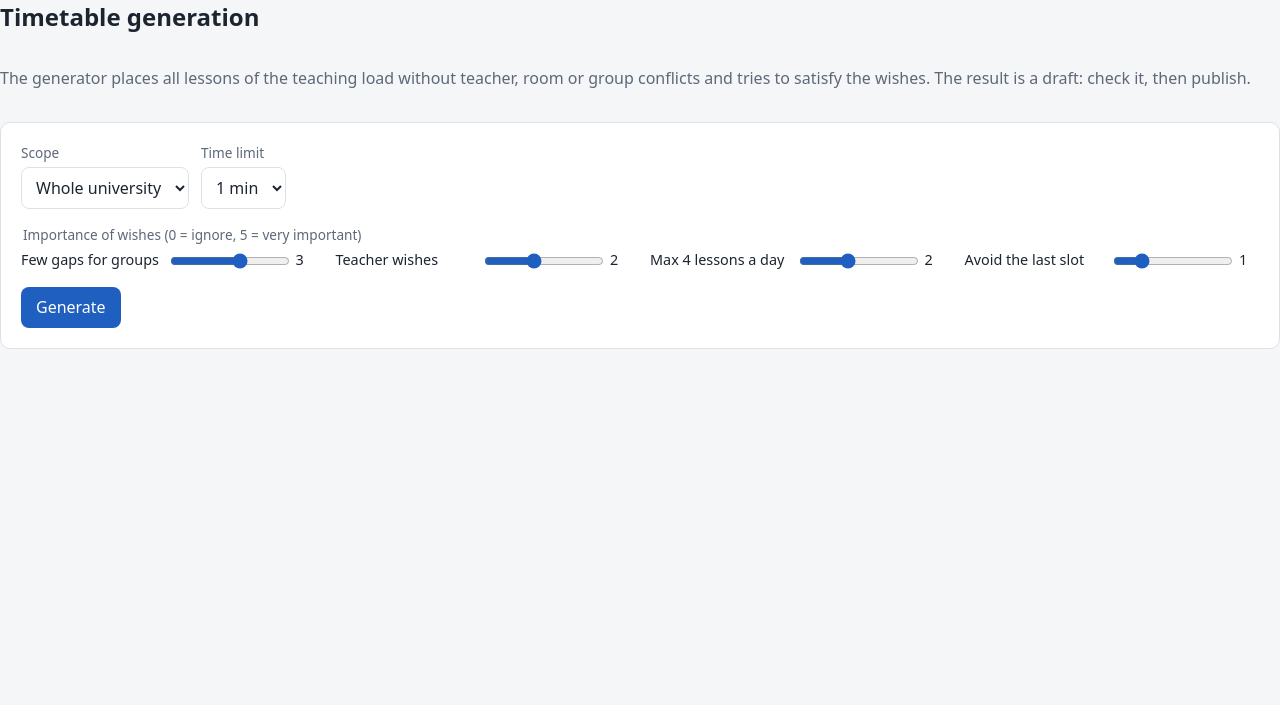
Test: GenerationPage › explains the result in plain language
Click the button "Generate".
click(71, 308)  # box [21,287,121,328]
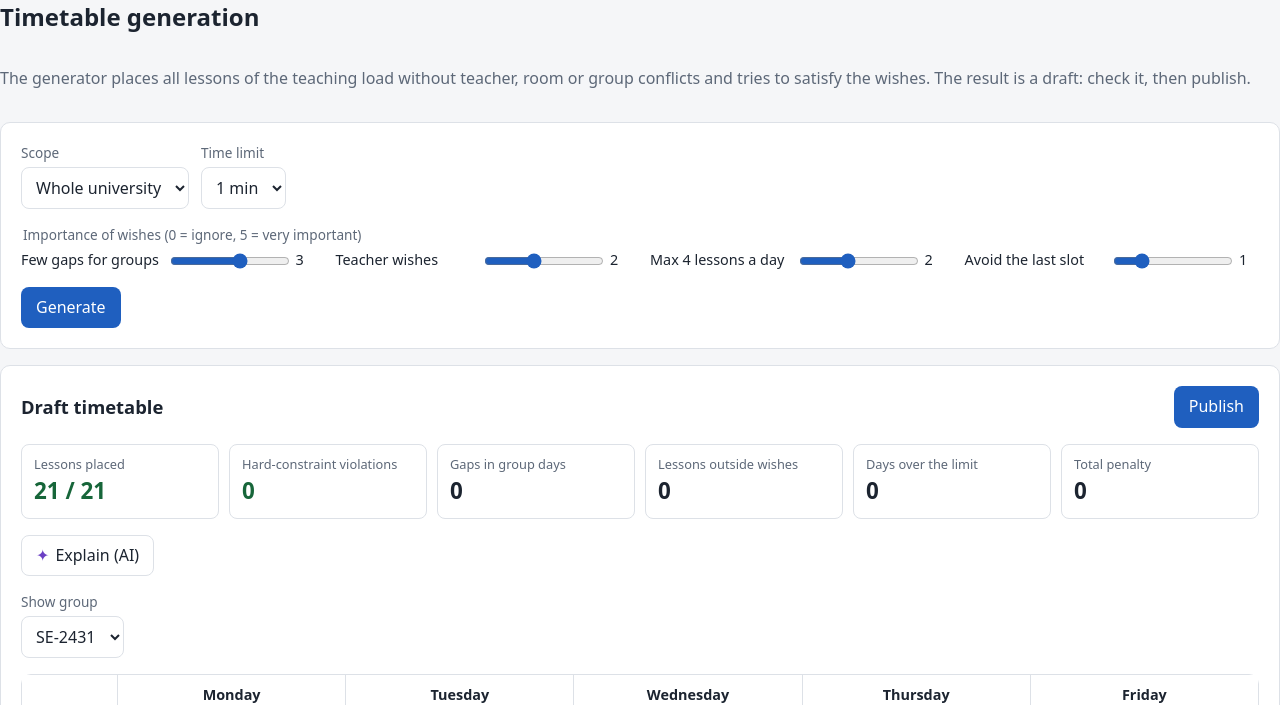
Click the button "✦ Explain (AI)".
click(88, 555)  # box [21,535,154,576]
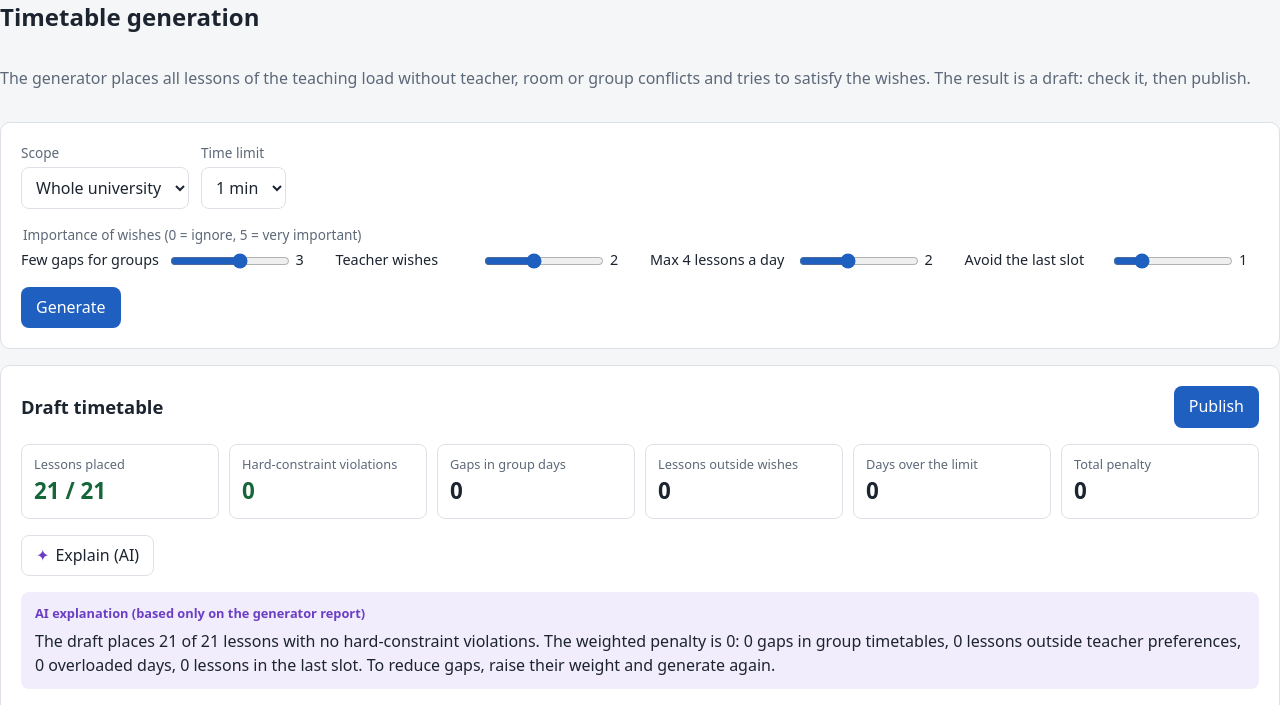
expect the text "The draft places 21 of 21 lessons" is shown: met, box [35,630,1241,676]
